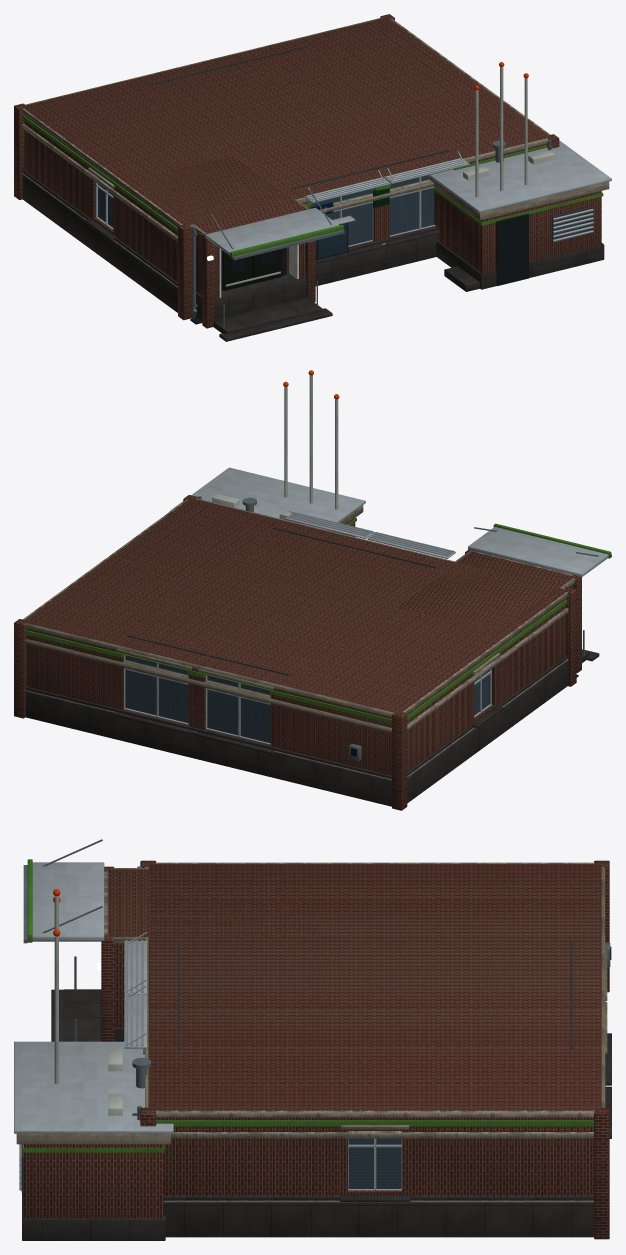
Rendered from fac_edu_main.glb.
The picture shows the model from 3 angles, top to bottom: view 1: azimuth 30°, elevation 25°; view 2: azimuth 150°, elevation 25°; view 3: azimuth 270°, elevation 25°; orthographic projection. The views are drawn at different scales.
Parts seen in each view (by area): view 1: FAC_EDU_MAIN; view 2: FAC_EDU_MAIN; view 3: FAC_EDU_MAIN.
Part boxes in pixels (left/top/right/bottom): FAC_EDU_MAIN: left=14, top=14, right=611, bottom=341; FAC_EDU_MAIN: left=14, top=370, right=611, bottom=810; FAC_EDU_MAIN: left=14, top=839, right=611, bottom=1240.
Bounding box in the file's own units: 14.06 × 7.38 × 13.71.
Materials: 22 (17 with a texture image).
